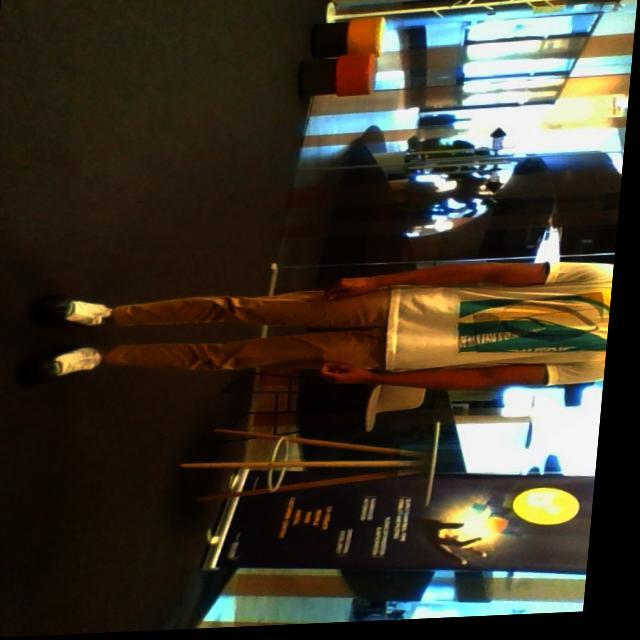shoes: (43, 344, 110, 386), (53, 289, 111, 327)
